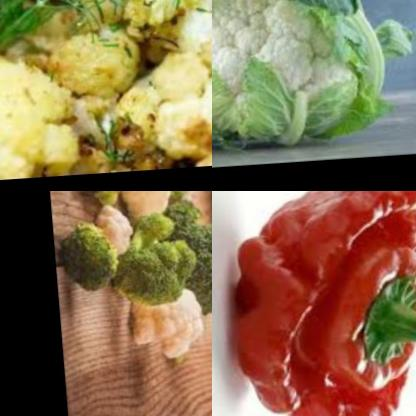broccoli: (110, 217, 195, 316), (58, 222, 126, 300), (167, 215, 212, 326), (73, 191, 144, 213)
cayliflower: (212, 0, 387, 149), (105, 0, 212, 172), (41, 24, 160, 176), (0, 31, 73, 181), (112, 285, 202, 360), (88, 202, 134, 264), (119, 191, 176, 221)
hot pepper: (212, 191, 416, 416)
